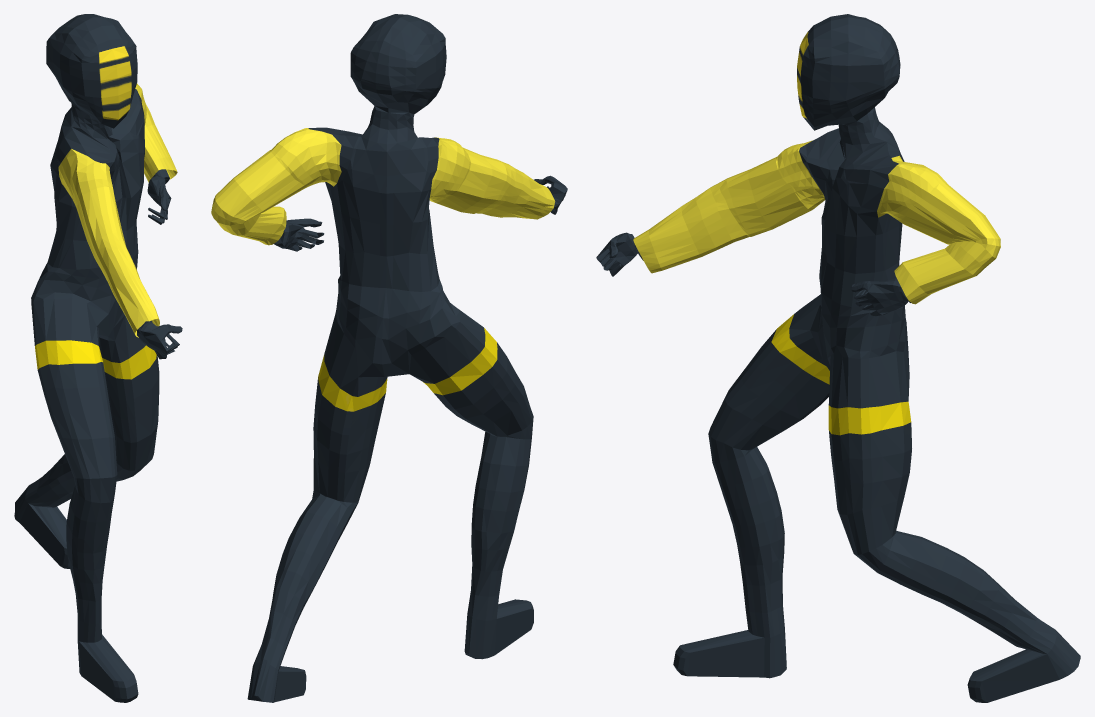
File: Sentry_WF_000004.obj
3 views of the same model, side by side, from view 1: azimuth 30°, elevation 25°; view 2: azimuth 150°, elevation 25°; view 3: azimuth 270°, elevation 25° (orthographic). The views are drawn at different scales.
Visible parts, largest first — view 1: Cube; view 2: Cube; view 3: Cube.
Boxes of the visible parts, box(x1,y1,x2,y2) form: Cube: box(14, 14, 182, 702); Cube: box(211, 14, 567, 702); Cube: box(596, 14, 1080, 702).
Size of the model in its own units: 1.17 by 3.66 by 2.37.
